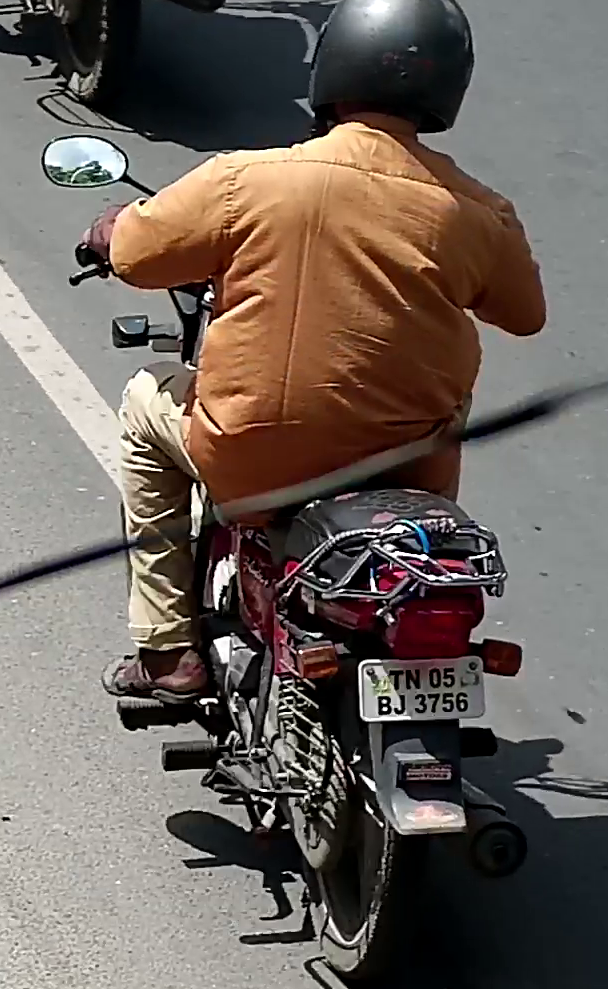0: (428, 667, 442, 689)
3: (413, 694, 427, 714)
5: (442, 666, 456, 688), (441, 692, 455, 713)
6: (455, 691, 469, 713)
7: (427, 693, 441, 714)
B: (376, 695, 392, 716)
J: (392, 694, 407, 716)
N: (405, 668, 422, 690)
P16: (354, 656, 486, 723)
T: (388, 669, 404, 691)
